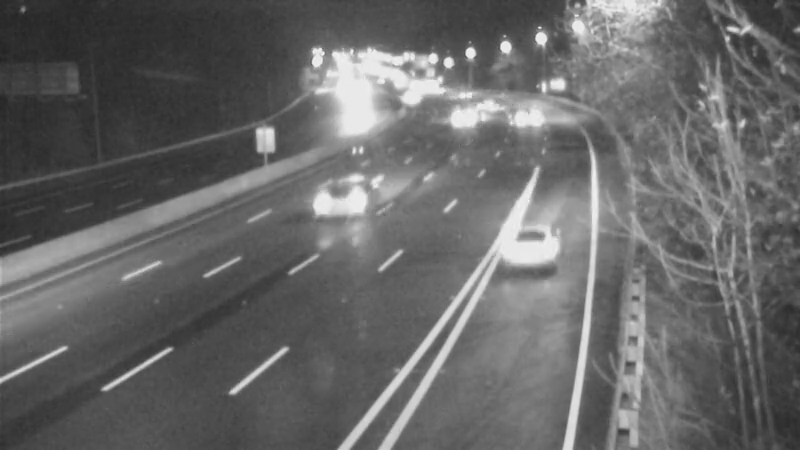vehicle: (308, 159, 388, 239), (486, 200, 566, 280), (381, 73, 431, 123), (442, 71, 492, 121), (461, 76, 511, 126), (439, 95, 489, 145), (502, 93, 552, 143), (326, 95, 376, 145)
